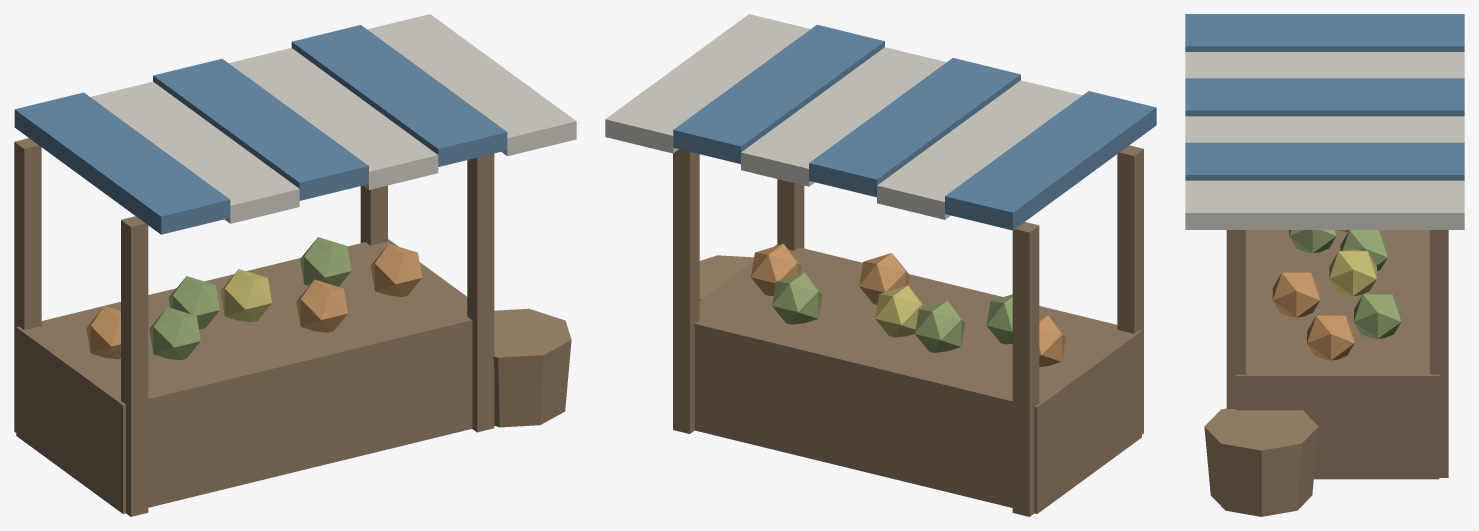
The model's file is m_stand_a.glb.
The picture shows the model from 3 angles, left to right: view 1: azimuth 30°, elevation 25°; view 2: azimuth 150°, elevation 25°; view 3: azimuth 270°, elevation 25°; orthographic projection. The views are drawn at different scales.
Visible parts, largest first — view 1: koerper; view 2: koerper; view 3: koerper.
Boxes of the visible parts, bbox=[...] form: koerper: bbox=[14, 14, 576, 516]; koerper: bbox=[605, 14, 1156, 516]; koerper: bbox=[1185, 14, 1464, 516].
Size of the model in its own units: 3.95 by 2.6 by 2.2.
